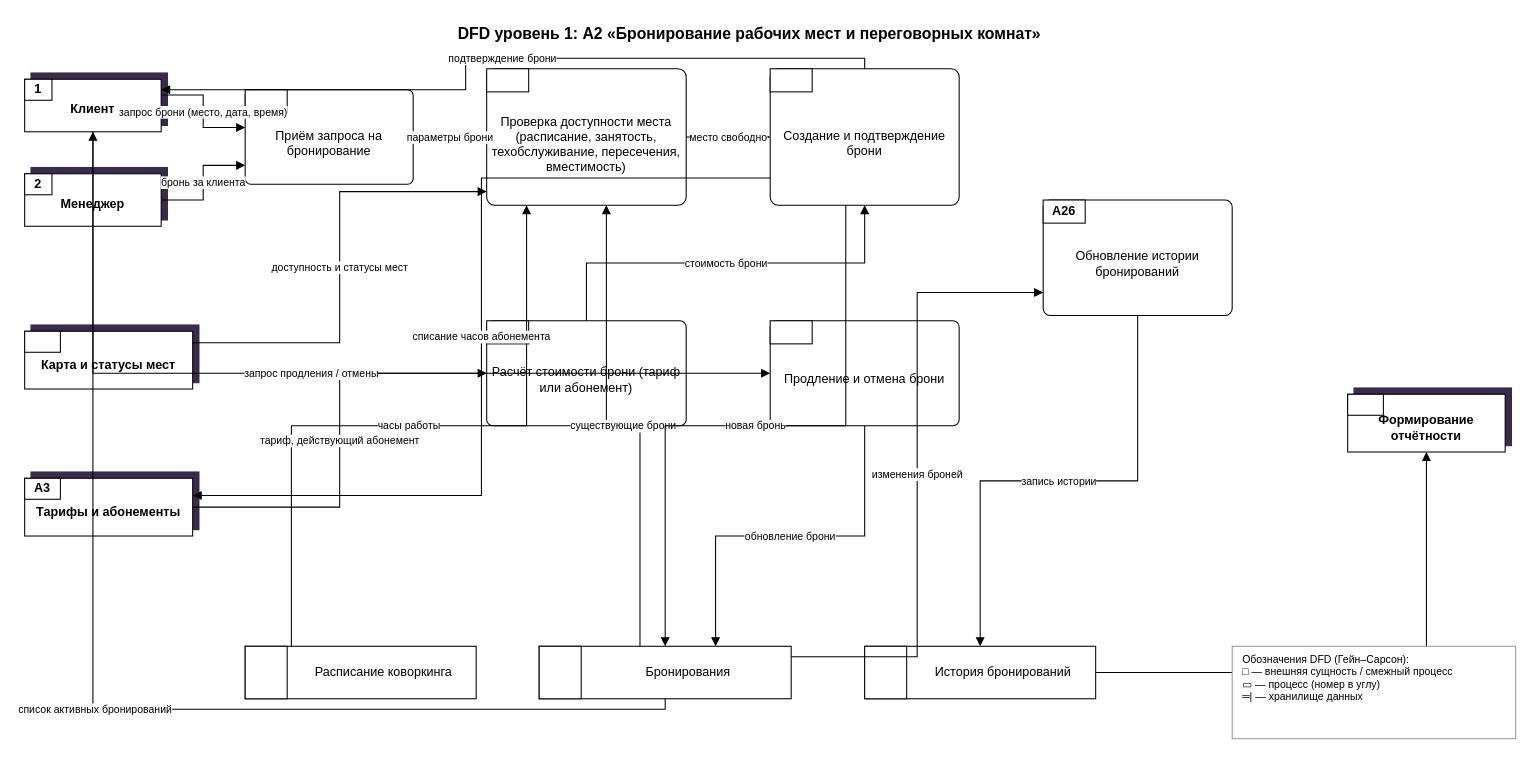
Image size: 1534x757. Some labels were removed from this diagram. Each missing label, with the centre of its shape:
A1: [42,341]
A2.1: [265,672]
A2.2: [559,672]
A2.3: [885,672]
A21: [265,101]
A22: [507,80]
A23: [507,332]
A24: [790,80]
A25: [790,332]
A4: [1365,404]
